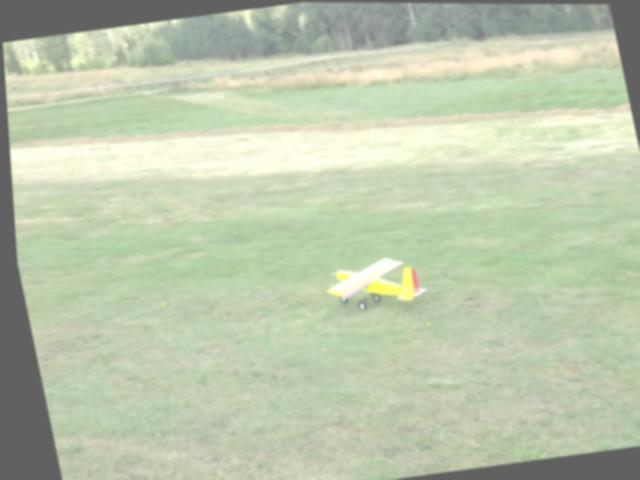plane: (317, 251, 427, 316)
